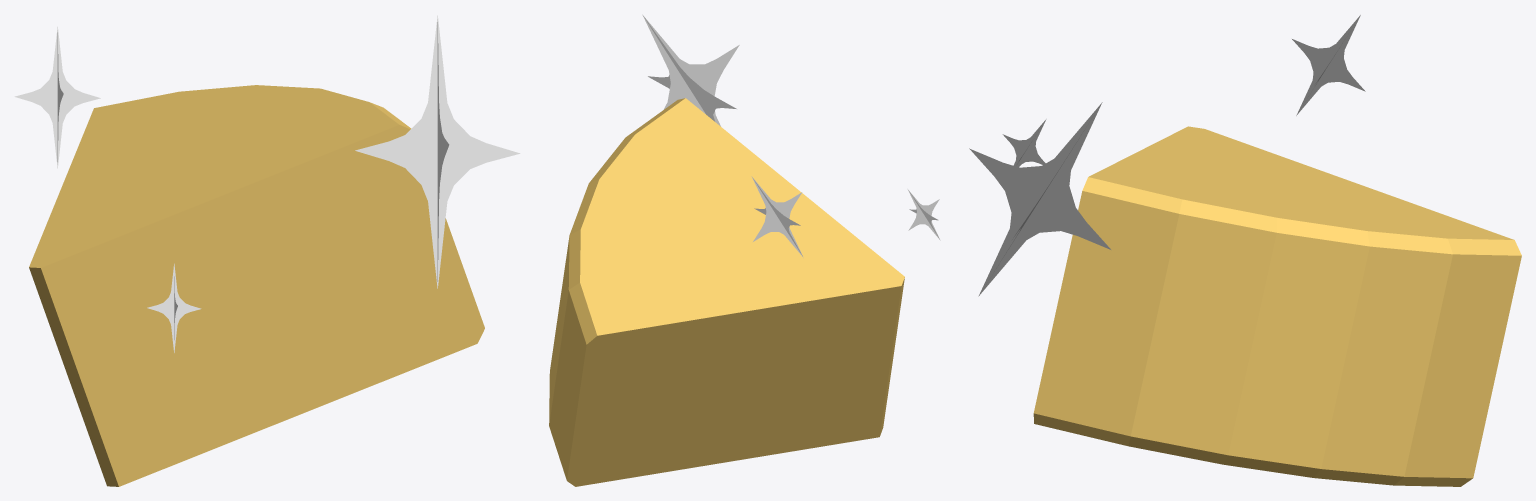
Rendered from Fromage_State1.fbx.
3 renders of one model, left to right at view 1: azimuth 30°, elevation 25°; view 2: azimuth 150°, elevation 25°; view 3: azimuth 270°, elevation 25°, orthographic. The views are drawn at different scales.
Visible parts, largest first — view 1: MainCheese_V1; view 2: MainCheese_V1; view 3: MainCheese_V1.
Part boxes in pixels (x1,y1,x2,y2): MainCheese_V1: (14,15,520,486); MainCheese_V1: (549,14,940,486); MainCheese_V1: (969,15,1521,486).
Size of the model in its own units: 6.52 by 6.52 by 7.56.
